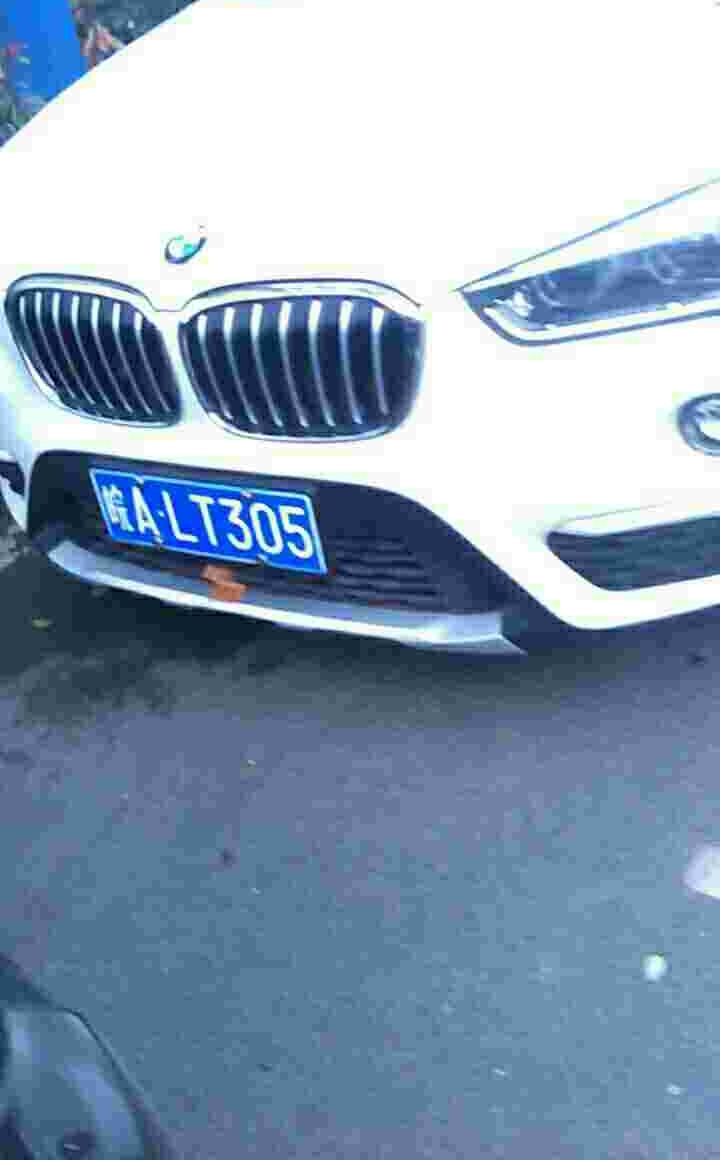license_plate: (94, 470, 330, 573)
